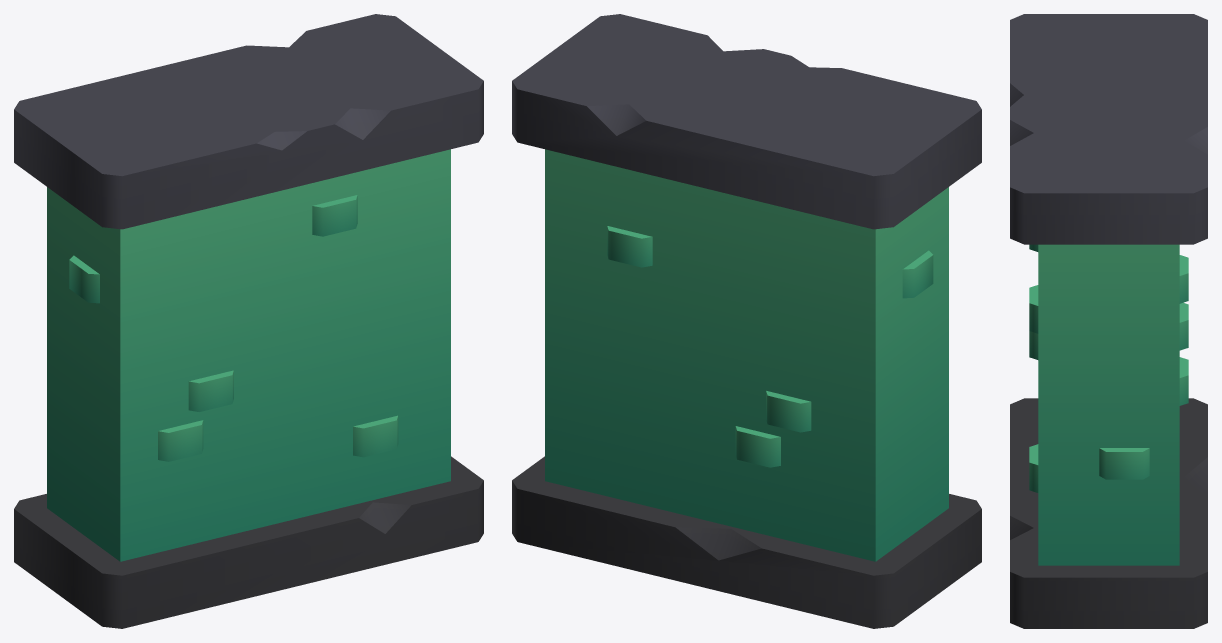
The model's file is wall-high.glb.
3 renders of one model, left to right at view 1: azimuth 30°, elevation 25°; view 2: azimuth 150°, elevation 25°; view 3: azimuth 270°, elevation 25°, orthographic. The views are drawn at different scales.
Parts seen in each view (by area): view 1: wall-high; view 2: wall-high; view 3: wall-high.
Part boxes in pixels (left/top/right/bottom): wall-high: left=14, top=14, right=483, bottom=628; wall-high: left=512, top=14, right=981, bottom=628; wall-high: left=1010, top=14, right=1207, bottom=628.
Bounding box in the file's own units: 1.5 × 1.7 × 0.7.
Materials: 1 (1 with a texture image).
